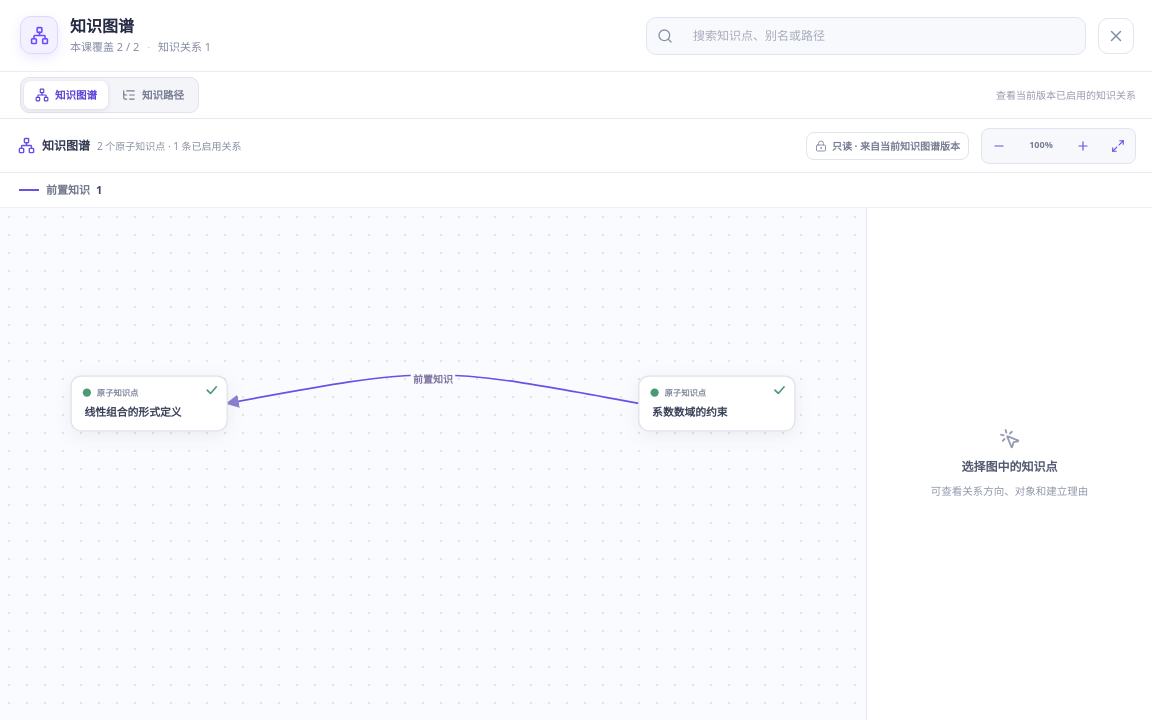
Course knowledge library › 只展示当前课程的路径结构与原子知识点
Click the tab "知识路径": [153, 95] box [111,81,195,109]
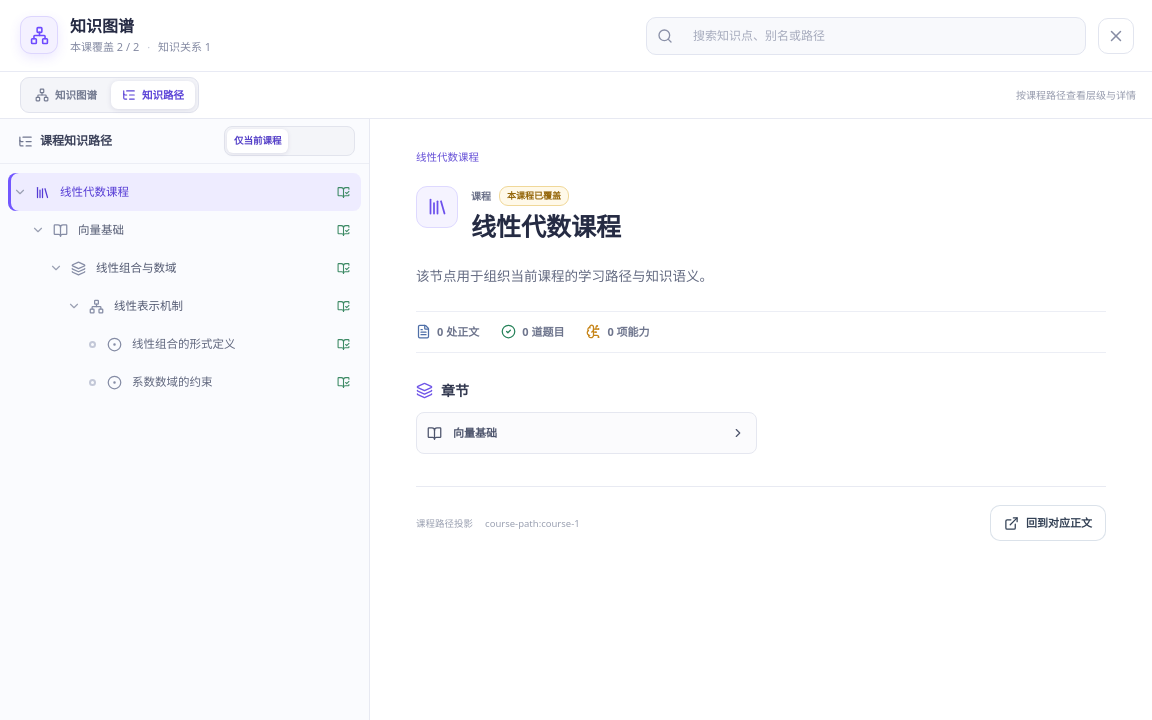
Expected: the text "线性代数课程" is shown, [60,184,129,199]
Expected: the text "向量基础" is shown, [78,222,124,237]
Expected: the text "线性组合与数域" is shown, [96,260,176,275]
